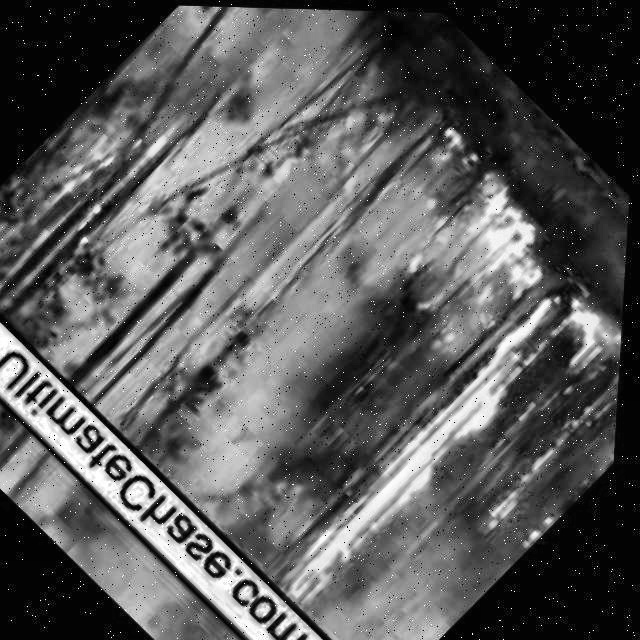Fire: (275, 270, 604, 618), (382, 154, 577, 345), (23, 94, 169, 242), (481, 415, 596, 535), (567, 310, 626, 429), (0, 252, 22, 379)
Smoke: (0, 0, 640, 581), (0, 389, 364, 640)
